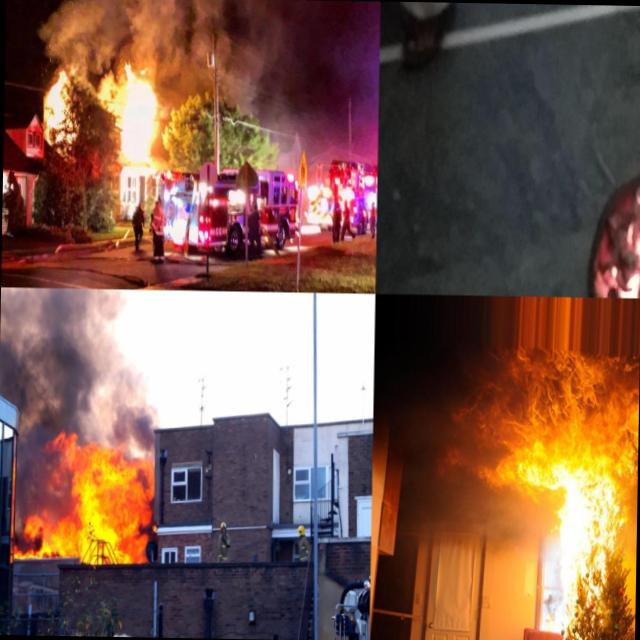fire: (463, 352, 639, 458), (53, 442, 154, 556), (555, 497, 630, 640), (478, 456, 638, 496), (119, 64, 160, 167), (610, 173, 640, 298), (41, 62, 74, 140)
smoke: (0, 287, 132, 443), (26, 0, 293, 67), (439, 494, 564, 562), (398, 400, 463, 458), (13, 442, 54, 509), (418, 457, 478, 496), (160, 64, 213, 105), (73, 63, 118, 108), (128, 374, 156, 444), (218, 65, 264, 106), (10, 527, 42, 557), (628, 528, 636, 564)
